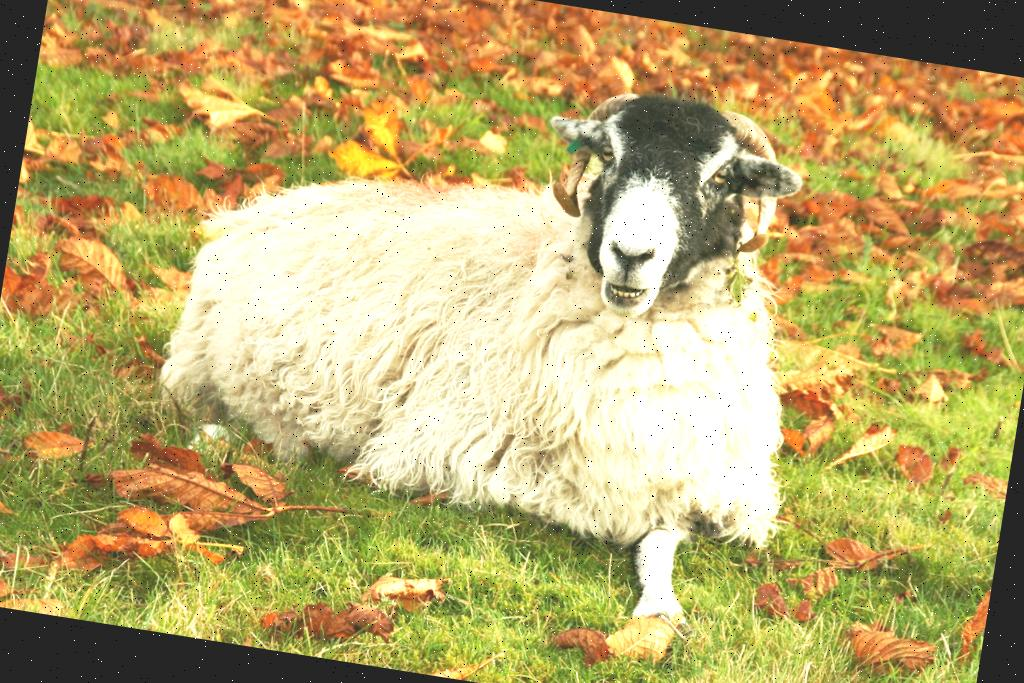Sheep: (148, 26, 848, 676)
